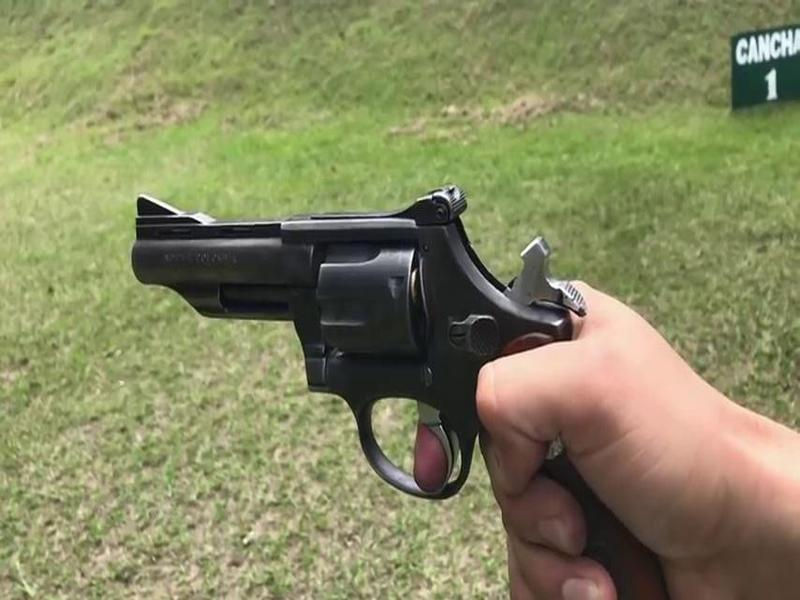Revolver: (109, 184, 578, 482)
